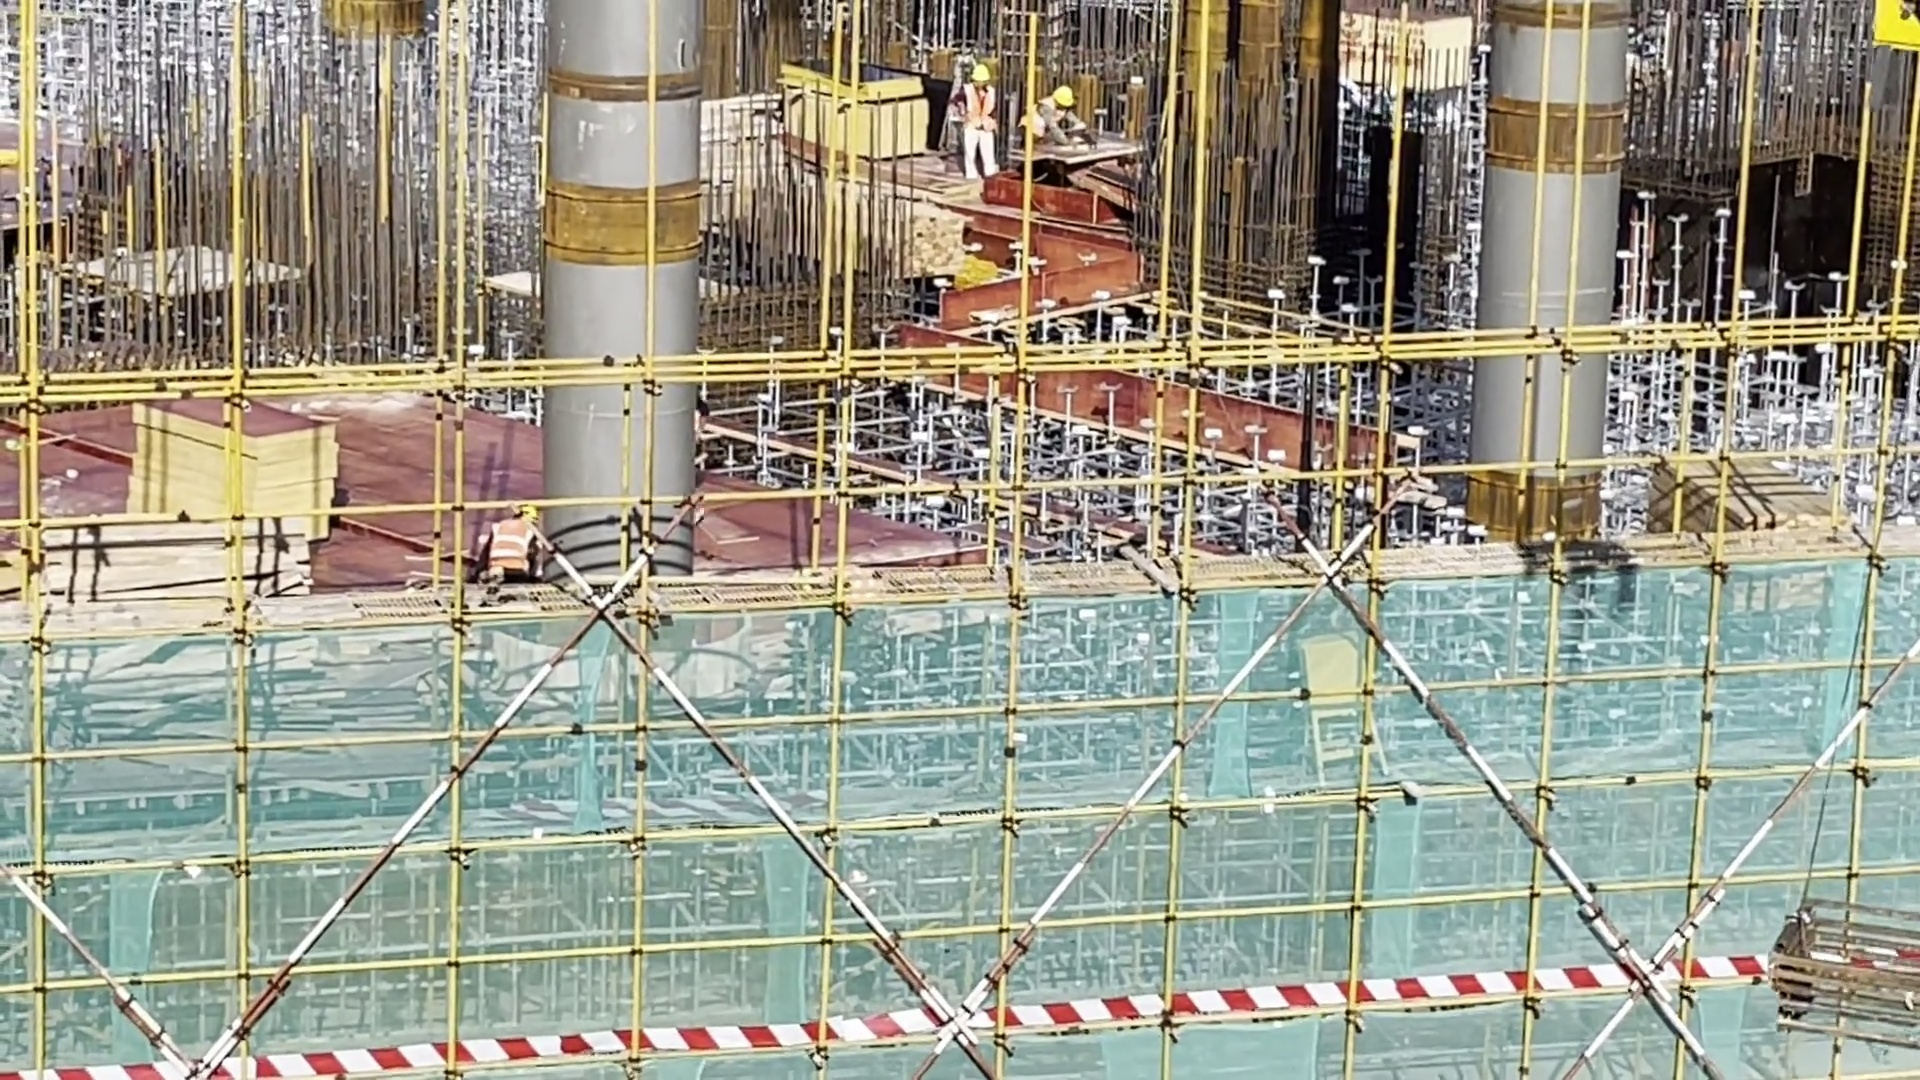board: (115, 384, 345, 554), (1638, 451, 1843, 561), (780, 55, 929, 154)
ebox: (1276, 621, 1406, 782)
helmet: (1049, 84, 1077, 109), (515, 502, 541, 523), (971, 63, 992, 87)
person: (476, 494, 559, 608), (959, 58, 1013, 186), (1020, 80, 1086, 156)
vest: (489, 515, 545, 587), (1022, 100, 1069, 137), (962, 84, 996, 133)
wood: (18, 501, 319, 649)
